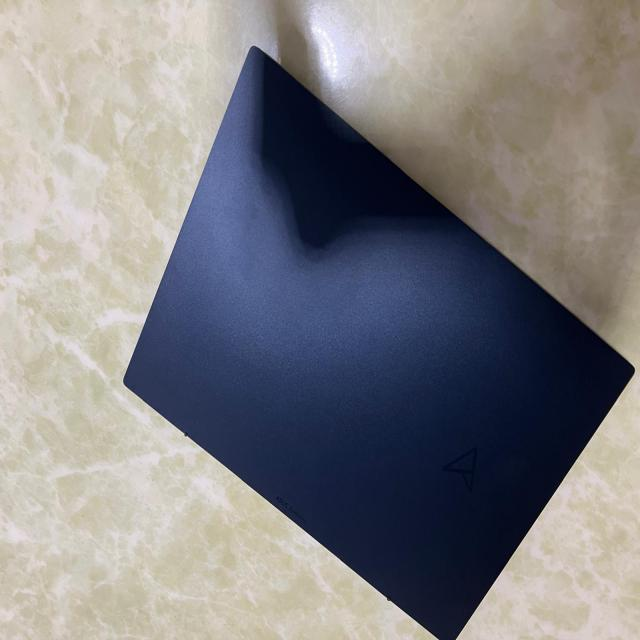laptop: (122, 44, 635, 639)
